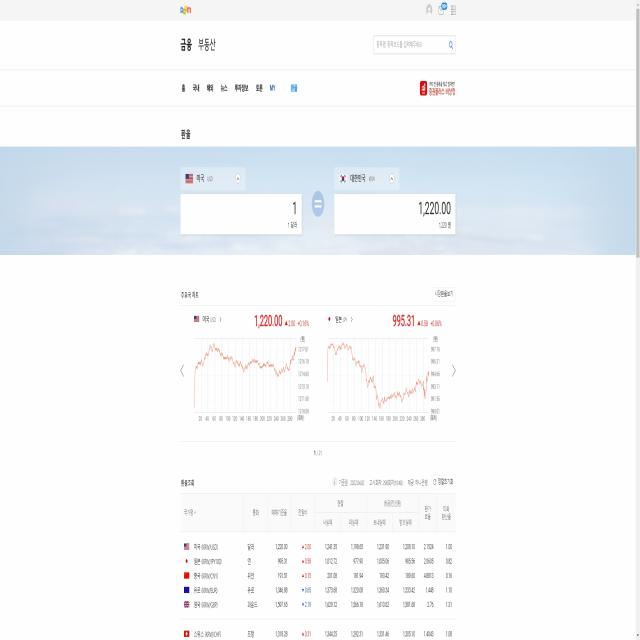menu-bar: (422, 2, 458, 20)
search: (372, 33, 458, 59)
tab-bar: (176, 73, 304, 100)
